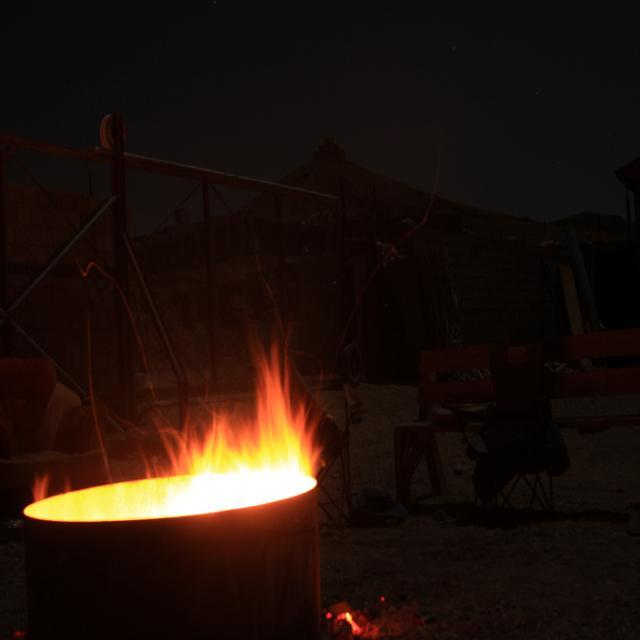Fire: (190, 423, 312, 500), (102, 481, 176, 517)
